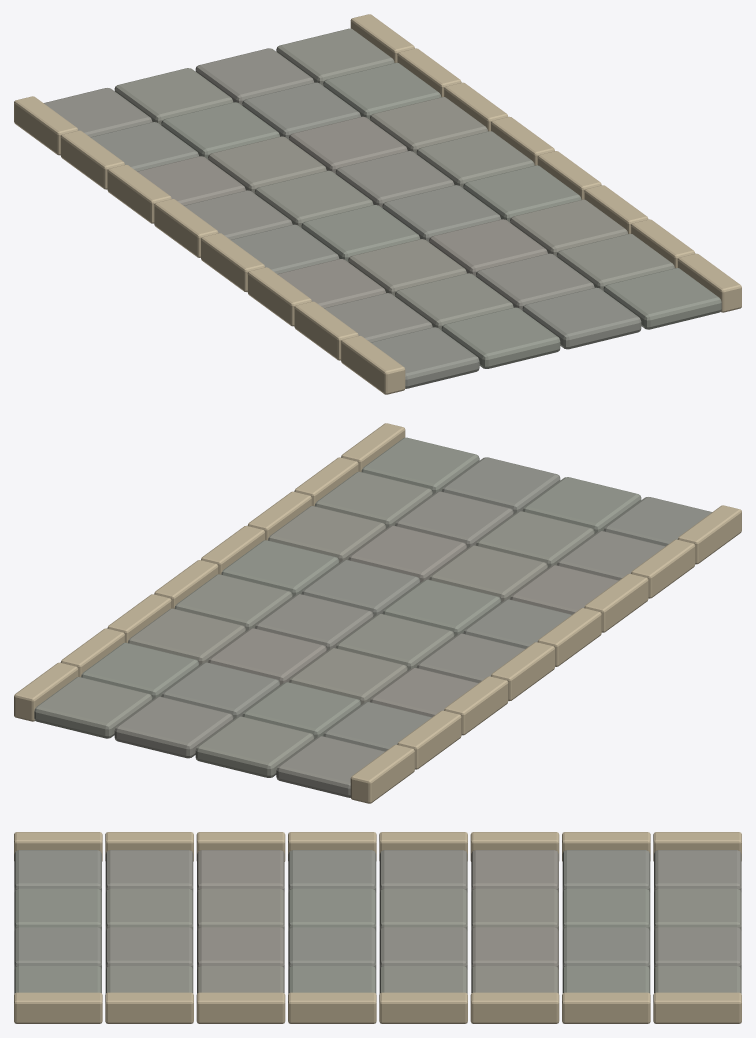
File: garden-path.glb
The picture shows the model from 3 angles, top to bottom: view 1: azimuth 30°, elevation 25°; view 2: azimuth 150°, elevation 25°; view 3: azimuth 270°, elevation 25°; orthographic projection. The views are drawn at different scales.
Parts seen in each view (by area): view 1: garden-path__Visual_matte; view 2: garden-path__Visual_matte; view 3: garden-path__Visual_matte.
Boxes of the visible parts, x1=… form: garden-path__Visual_matte: x1=14, y1=14, x2=741, y2=394; garden-path__Visual_matte: x1=14, y1=423, x2=741, y2=803; garden-path__Visual_matte: x1=14, y1=832, x2=741, y2=1023.
Size of the model in its own units: 2.21 by 0.14 by 3.99.
